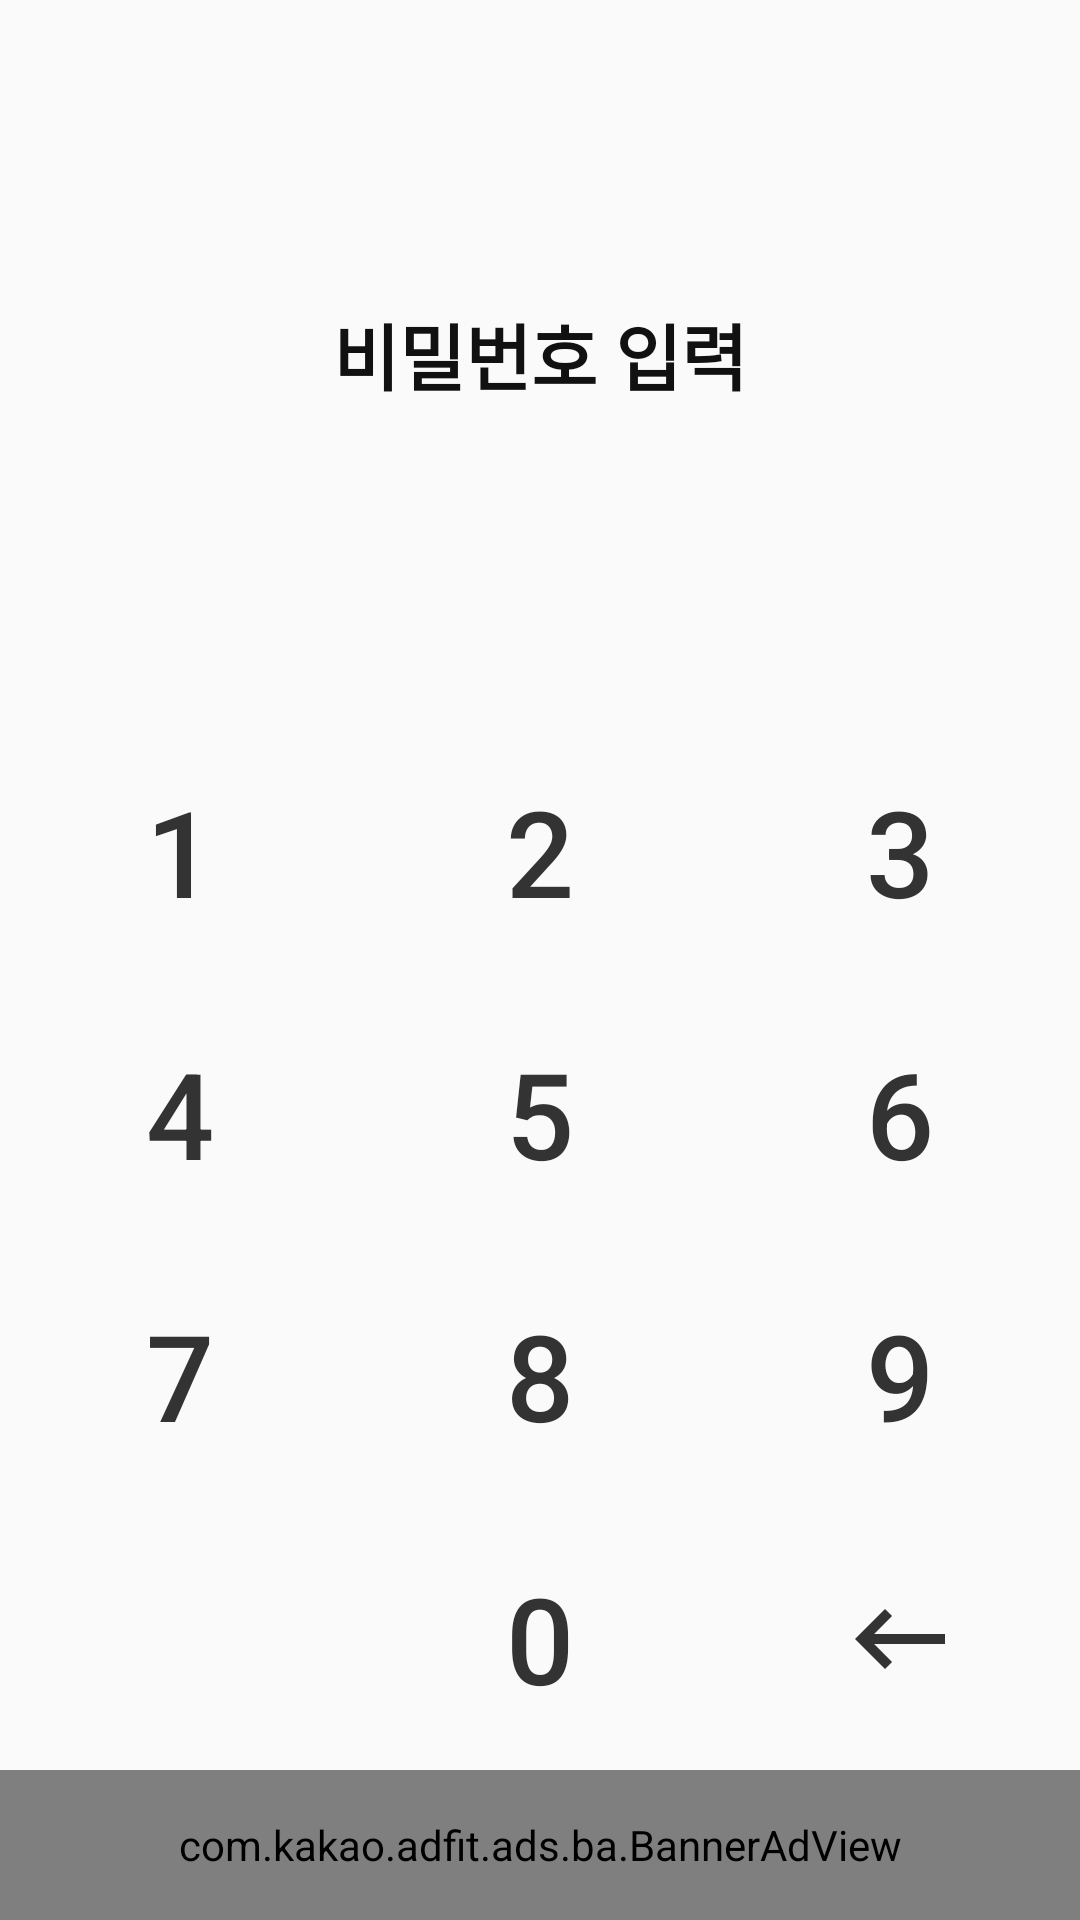

Named icons in this screenshot (1080x1920) and their centers, point (x, y):
keyboard backspace: point (900, 1639)
